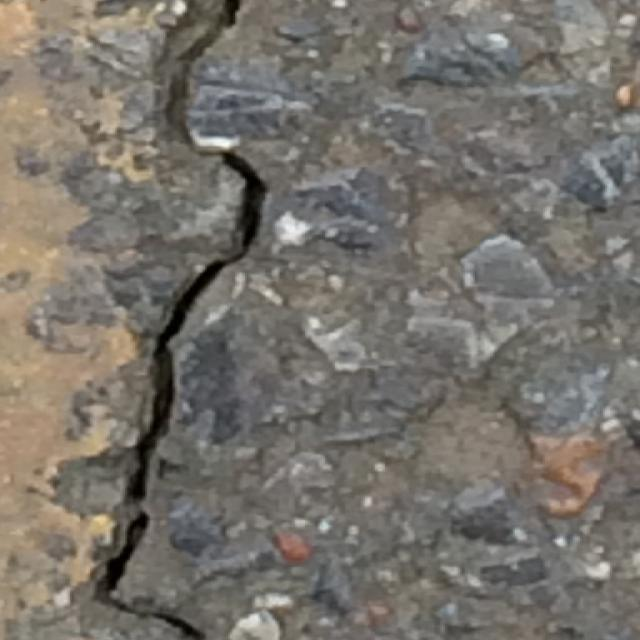Longitudinal: (109, 0, 267, 626)
